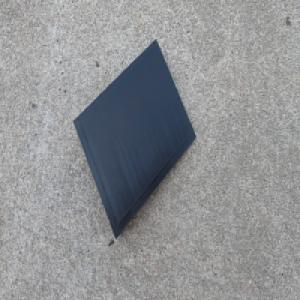PlasticPart: (72, 36, 197, 241)
